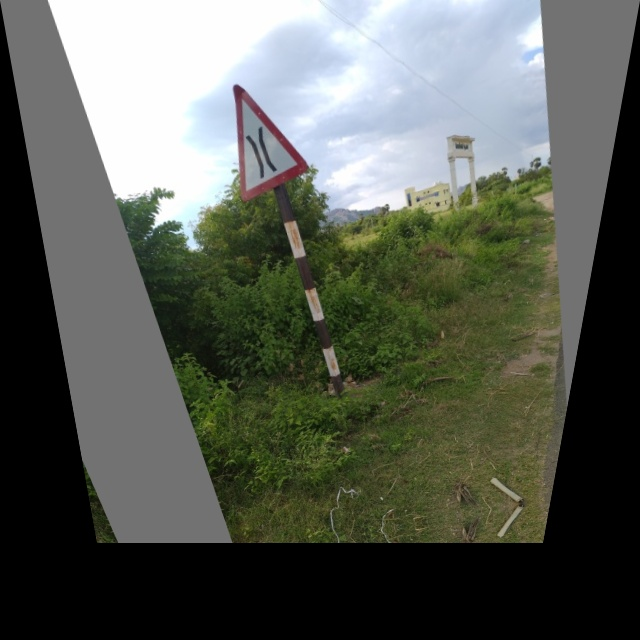Narrow_Bridge: (200, 62, 319, 200)
